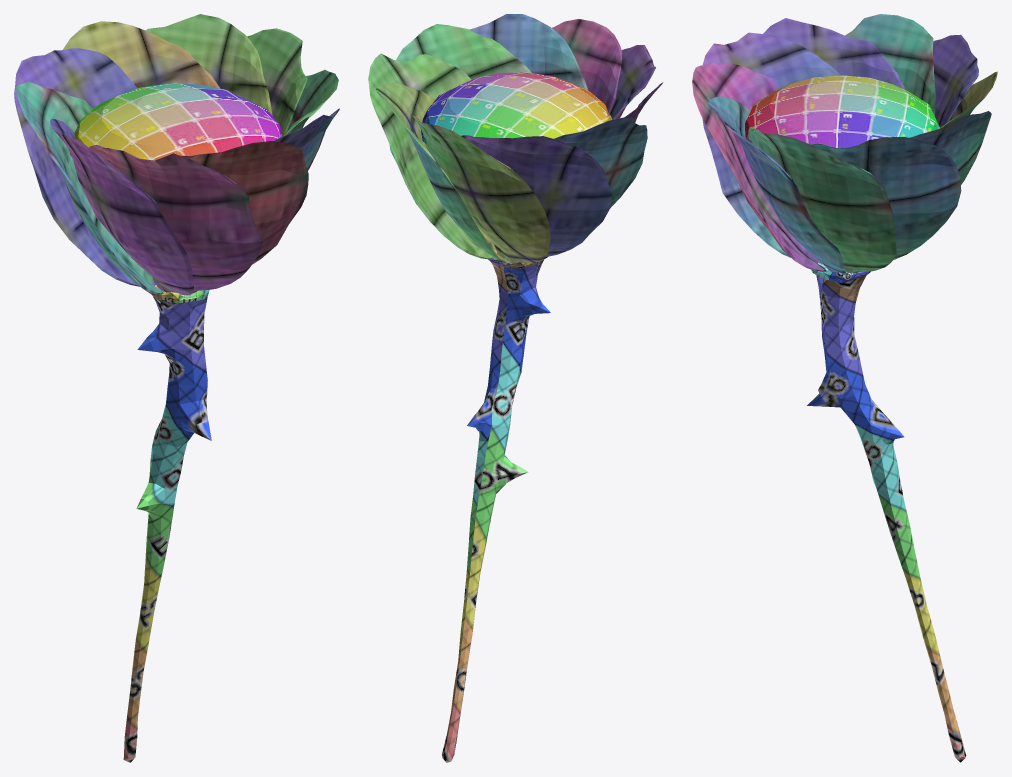
File: RoseOBJ(Retopo).obj
3 views of the same model, side by side, from view 1: azimuth 30°, elevation 25°; view 2: azimuth 150°, elevation 25°; view 3: azimuth 270°, elevation 25° (orthographic). The views are drawn at different scales.
Visible parts, largest first — view 1: Rose RosePetals, Rose StemRetopo, RoseCenter Rose; view 2: Rose RosePetals, Rose StemRetopo, RoseCenter Rose; view 3: Rose RosePetals, Rose StemRetopo, RoseCenter Rose.
Part boxes in pixels (<box>): Rose RosePetals: <box>14,14,339,295</box>; Rose StemRetopo: <box>123,282,211,762</box>; RoseCenter Rose: <box>70,83,281,160</box>; Rose RosePetals: <box>368,14,663,264</box>; Rose StemRetopo: <box>442,250,550,762</box>; RoseCenter Rose: <box>421,72,612,144</box>; Rose RosePetals: <box>692,14,997,274</box>; Rose StemRetopo: <box>807,263,966,762</box>; RoseCenter Rose: <box>745,75,939,147</box>.
Size of the model in its own units: 10.15 by 25.24 by 10.28.
Materials: 3 (3 with a texture image).
